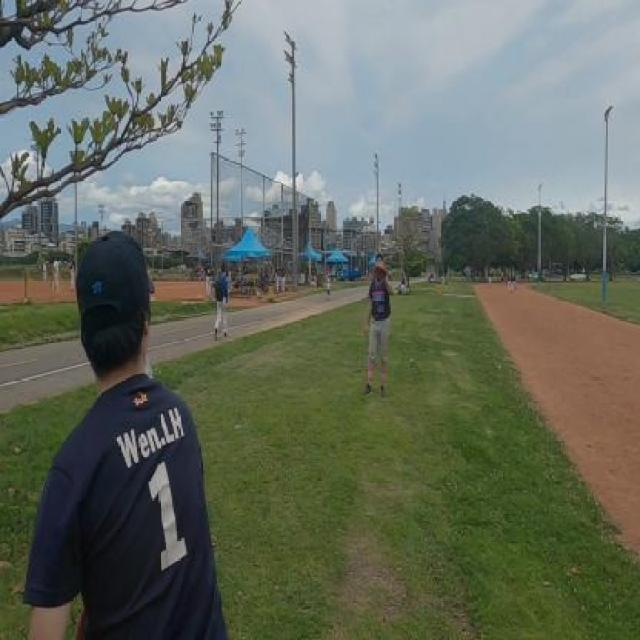baseball: (369, 216, 374, 224)
